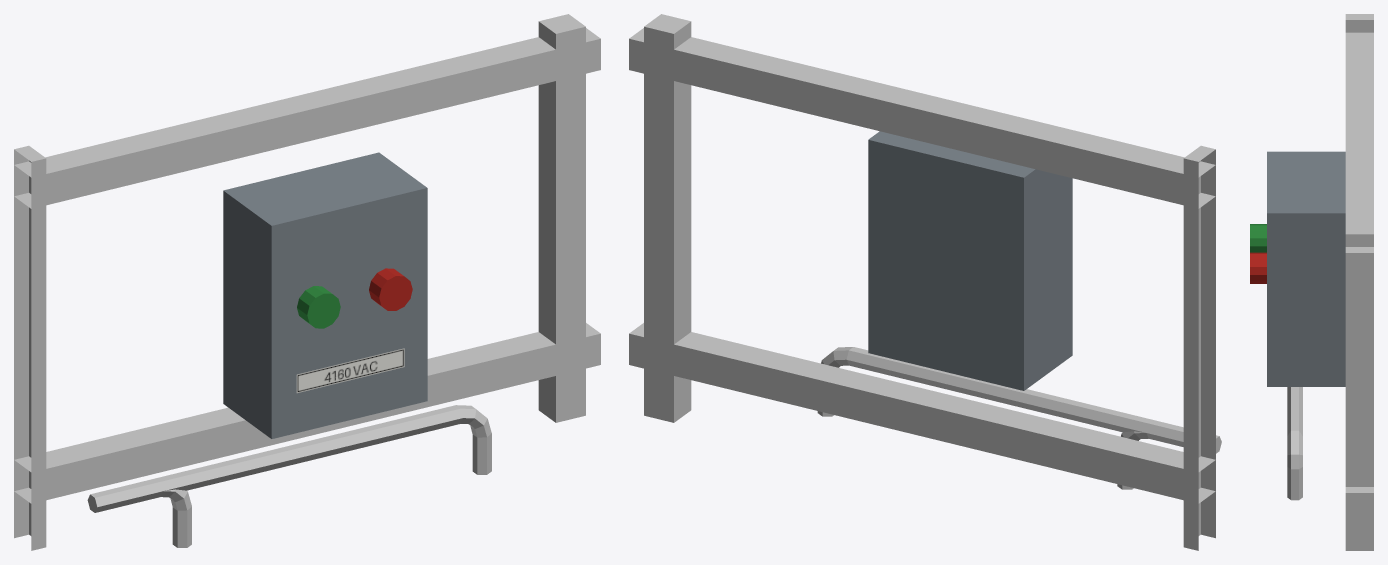
The model's file is cell_41.obj.
The picture shows the model from 3 angles, left to right: view 1: azimuth 30°, elevation 25°; view 2: azimuth 150°, elevation 25°; view 3: azimuth 270°, elevation 25°; orthographic projection. The views are drawn at different scales.
Bounding box in the file's own units: 0.95 × 0.62 × 0.22.
